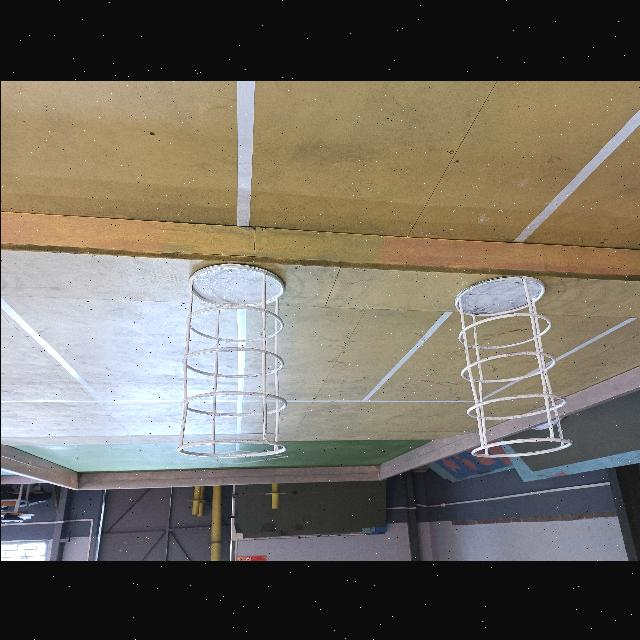S: (174, 260, 289, 462), (452, 274, 574, 459)
